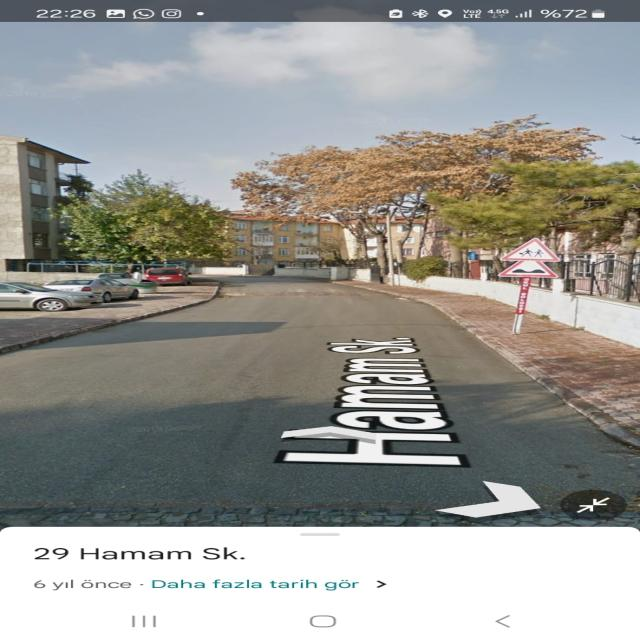okul_gecidi: (499, 238, 560, 261)
